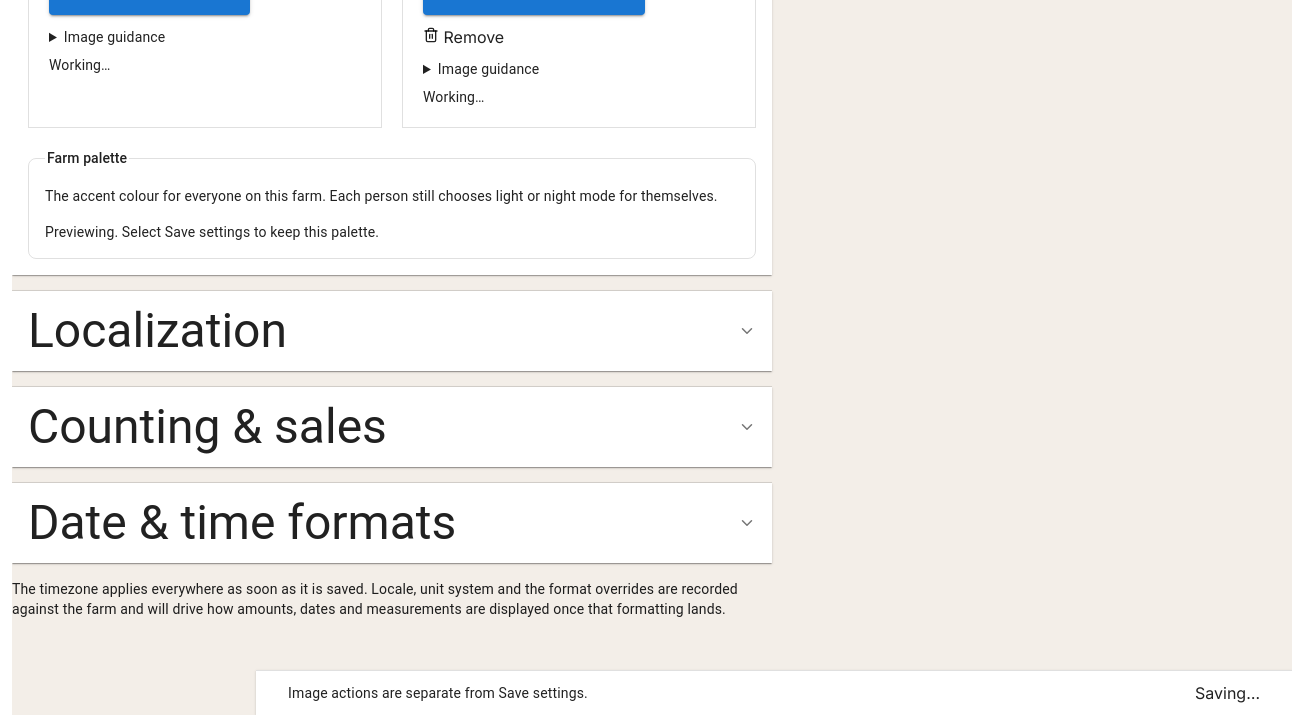
Test: SettingsPage stepper unit (#444) › falls back to Individual when the stored default's conversion is inactive
The width and height of the screenshot is (1292, 715).
(page scrolled)
Expected: the button "Localization" is shown, top-left (12, 291), bottom-right (772, 371)
What coordinates should you click on to do the following:
click the button "Counting & sales"
I would click on:
 (207, 426)
Its box is top-left (12, 387), bottom-right (772, 467).
(page scrolled)
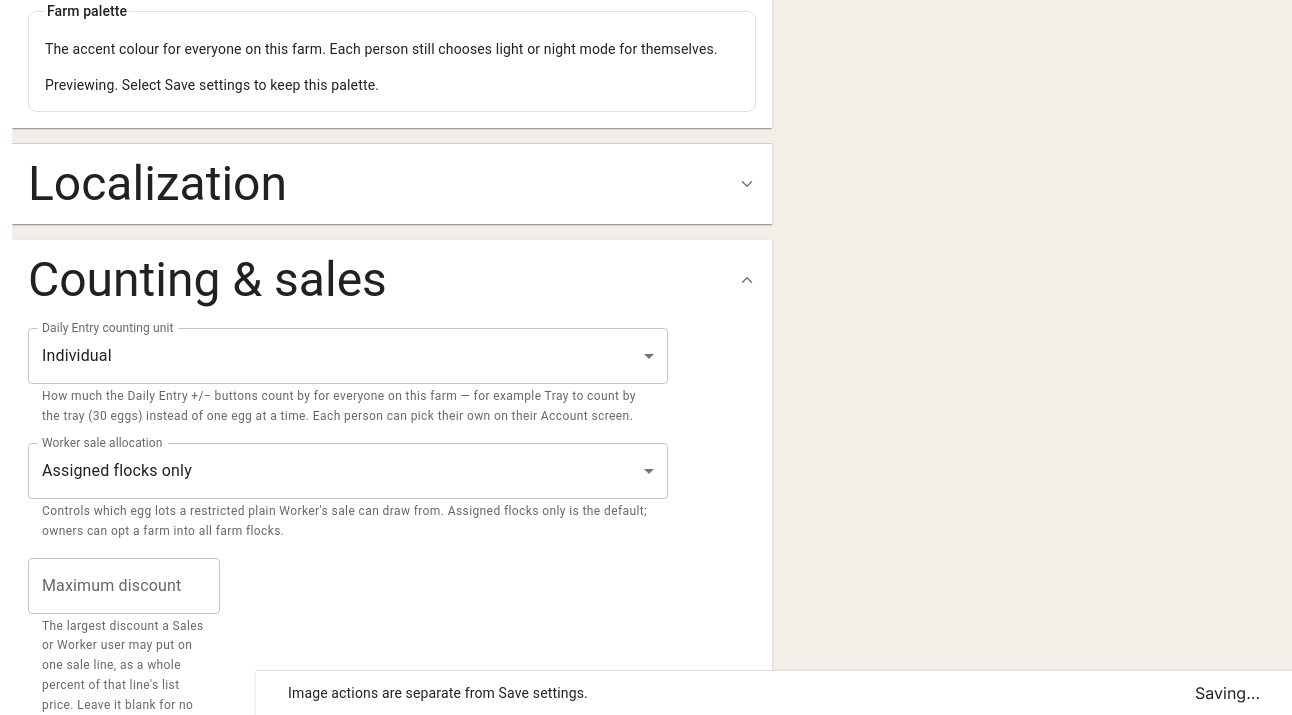
Now the dropdown labelled "Daily Entry counting unit" shows "Individual", box top-left (28, 328), bottom-right (668, 384)
